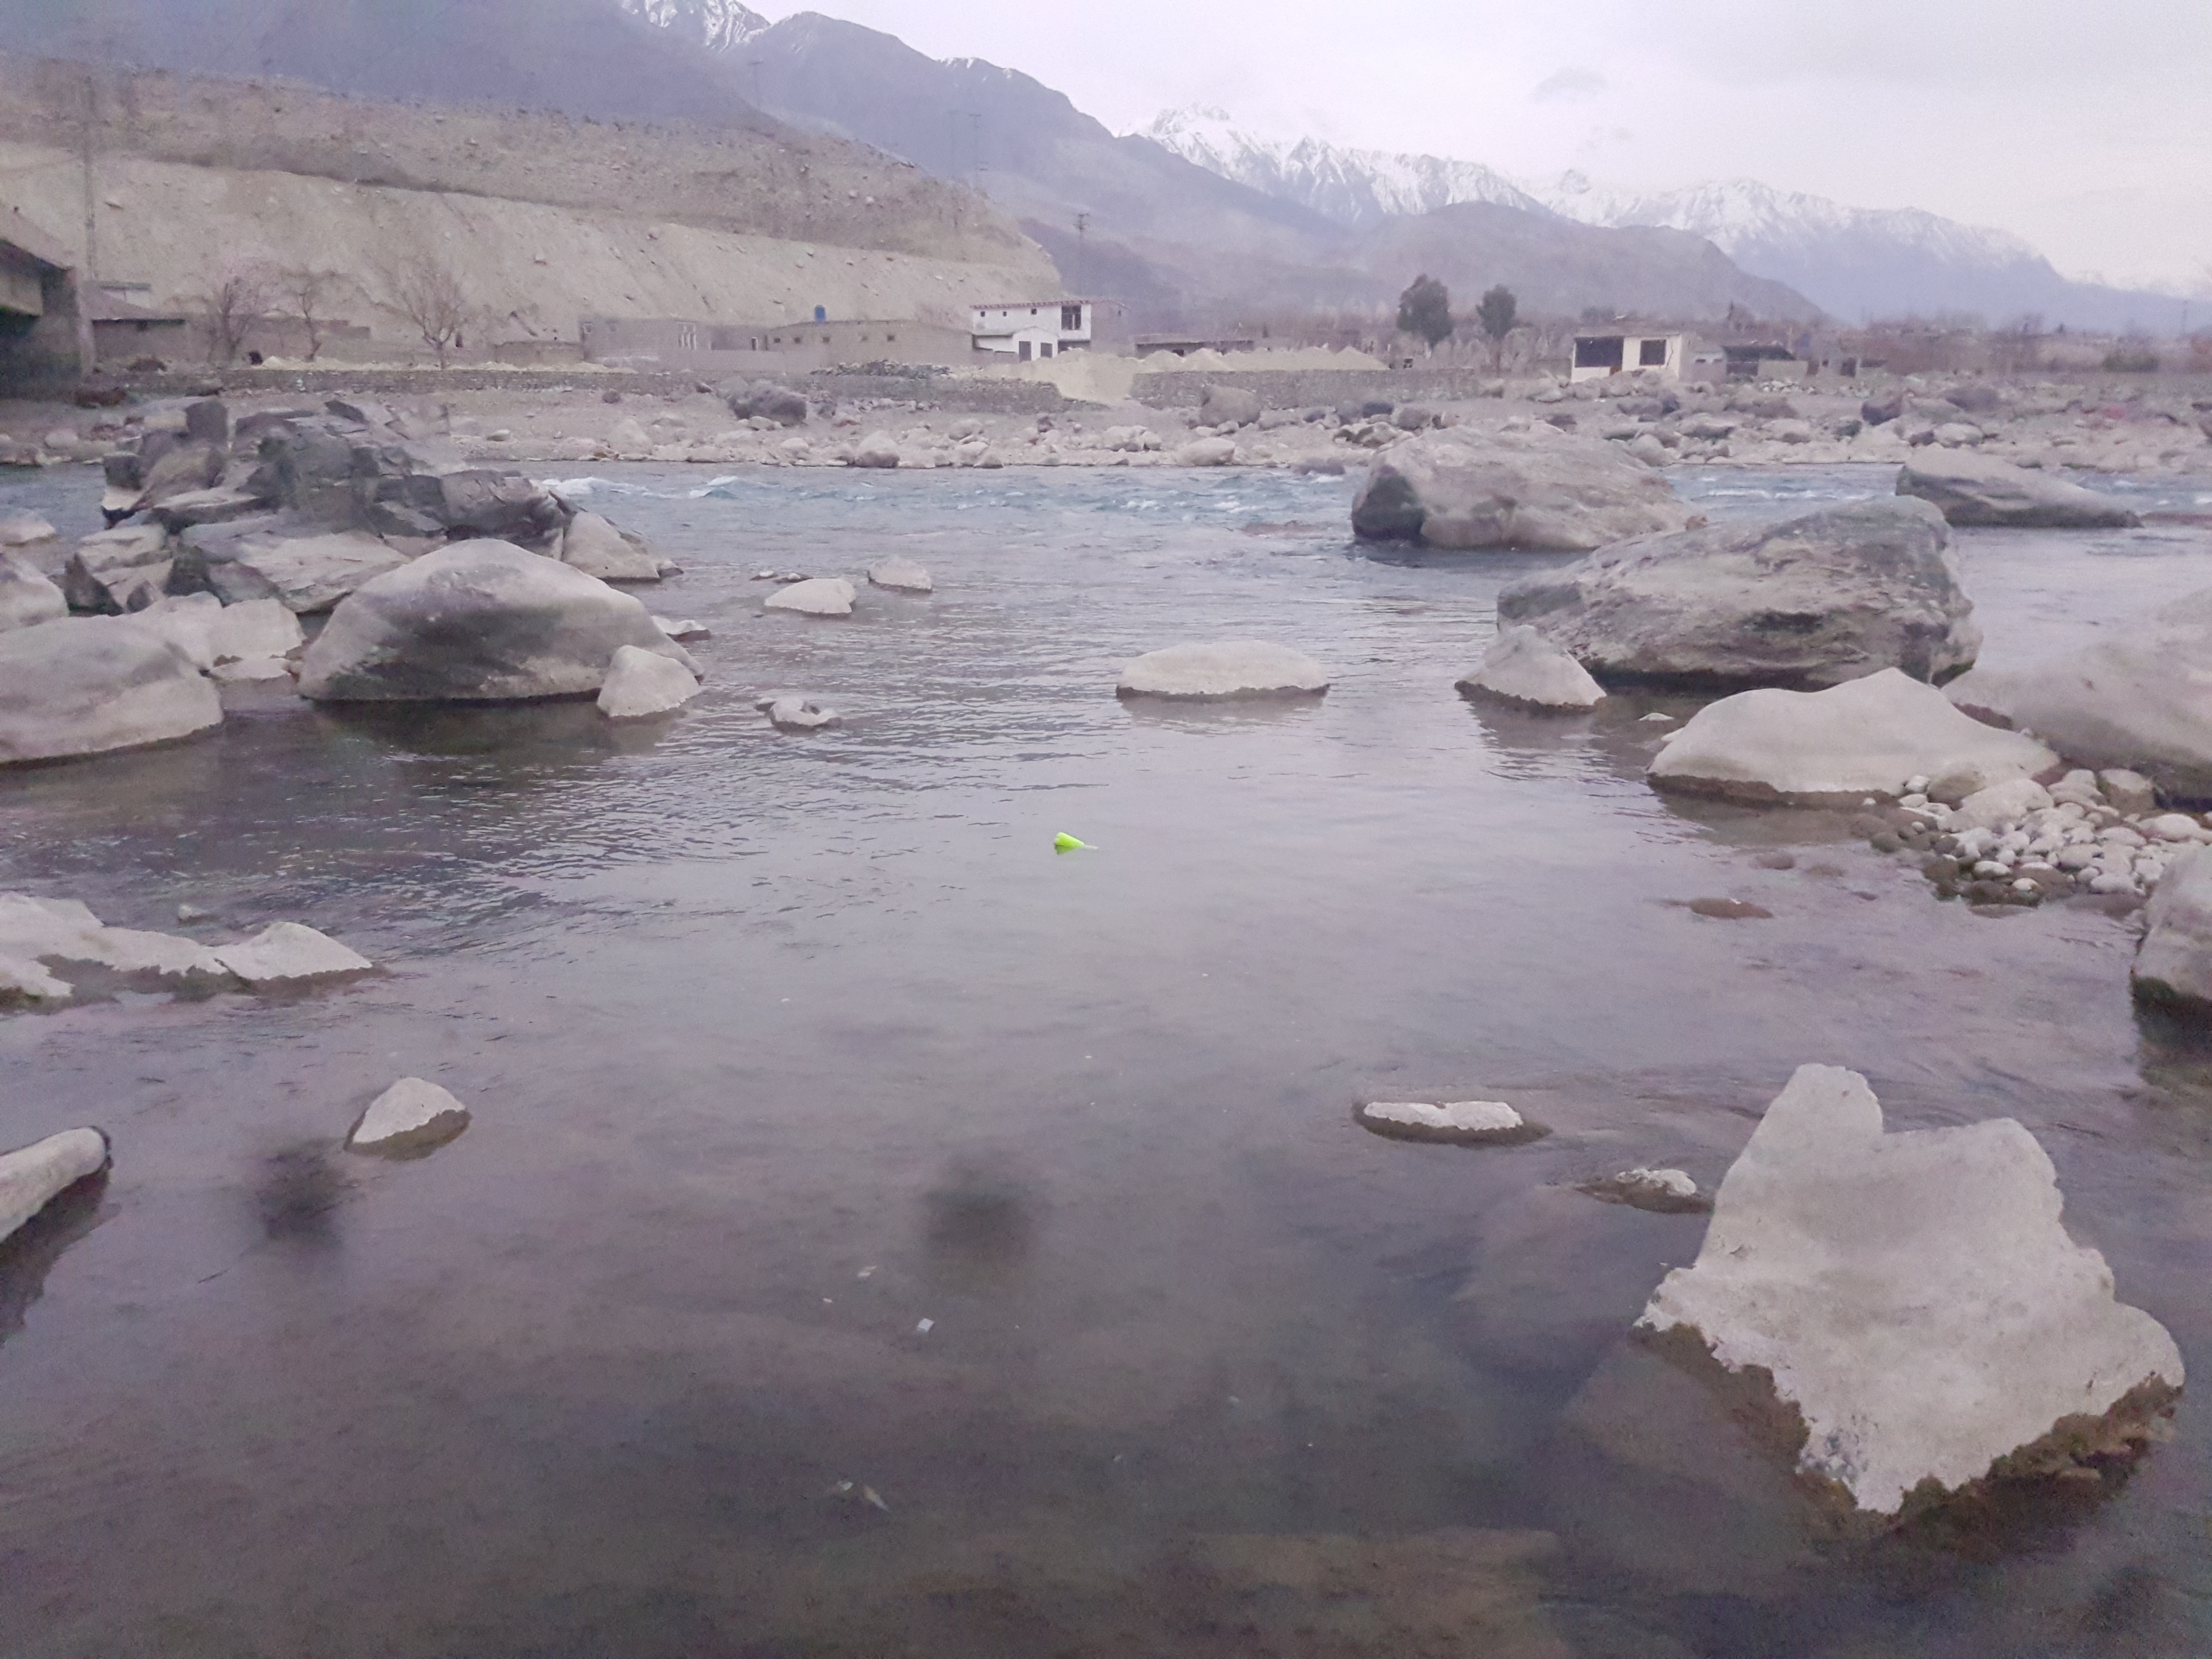Plastic Bottle: (1054, 831, 1085, 847)
